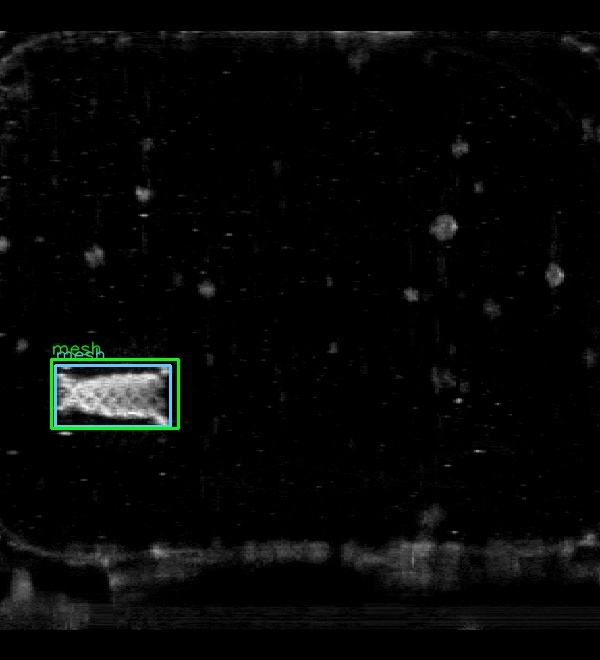mesh: (55, 365, 170, 426)
